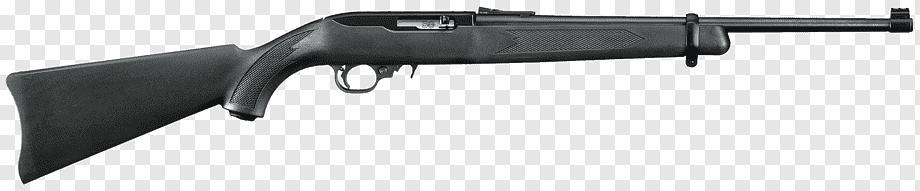larga: (1, 4, 914, 188)
